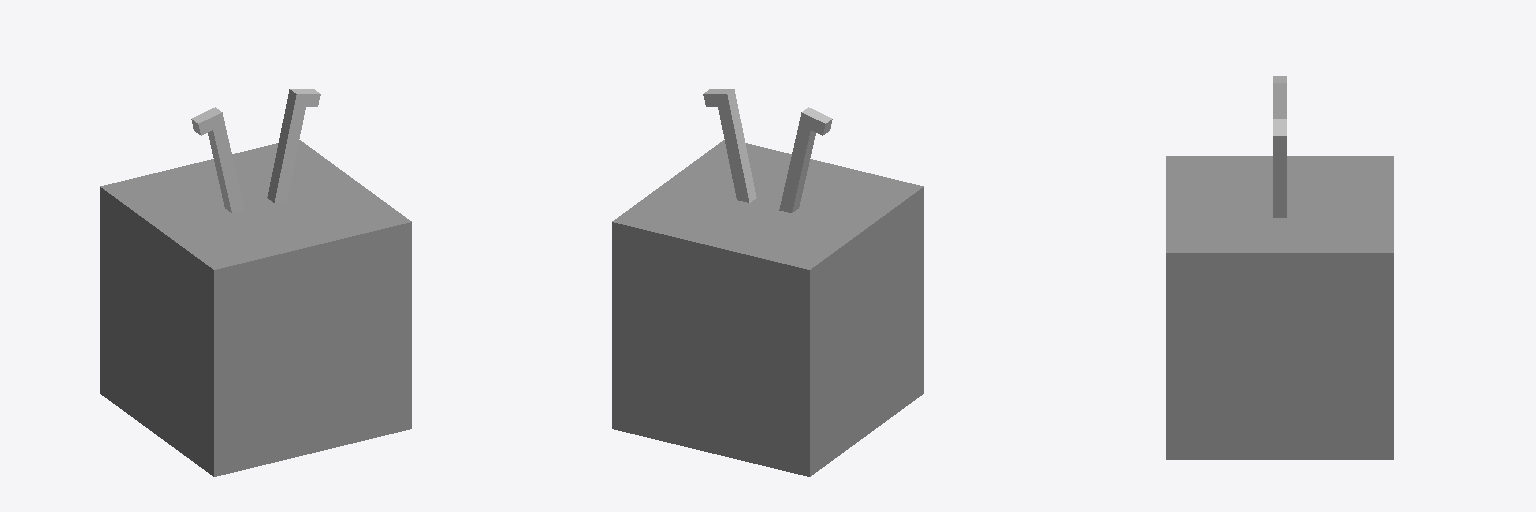
Rendered from jacobs_small.obj.
The picture shows the model from 3 angles: view 1: azimuth 30°, elevation 25°; view 2: azimuth 150°, elevation 25°; view 3: azimuth 270°, elevation 25°; orthographic projection.
Visible parts, largest first — view 1: Cube.004_Cube.008, Cube.002_Cube.010, Cube.000_Cube.009; view 2: Cube.004_Cube.008, Cube.002_Cube.010, Cube.000_Cube.009; view 3: Cube.004_Cube.008, Cube.002_Cube.010, Cube.000_Cube.009.
Part boxes in pixels (left/top/right/bottom): Cube.004_Cube.008: left=100, top=140, right=411, bottom=476; Cube.002_Cube.010: left=267, top=89, right=308, bottom=202; Cube.000_Cube.009: left=204, top=107, right=244, bottom=212; Cube.004_Cube.008: left=612, top=140, right=923, bottom=476; Cube.002_Cube.010: left=715, top=89, right=756, bottom=202; Cube.000_Cube.009: left=779, top=107, right=819, bottom=212; Cube.004_Cube.008: left=1166, top=156, right=1393, bottom=459; Cube.002_Cube.010: left=1273, top=119, right=1286, bottom=217; Cube.000_Cube.009: left=1273, top=80, right=1286, bottom=118.
Size of the model in its own units: 1 by 1.5 by 1.